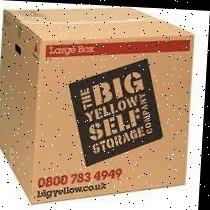cube: (0, 3, 197, 210)
